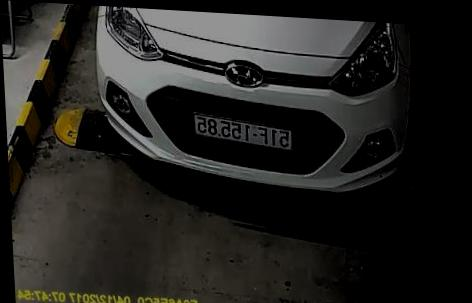License_Plate: (189, 112, 295, 151)
